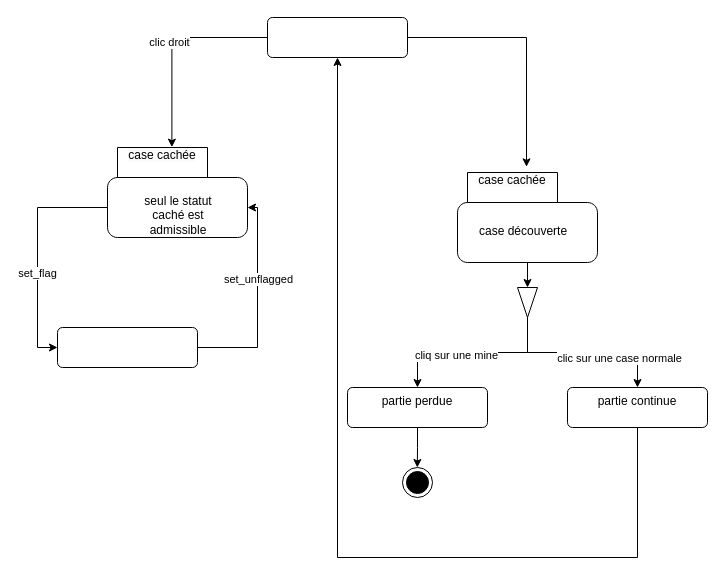
Image size: 725x583. Some labels were removed from this diagram. Each missing label, with the box of its shape:
Commencé: (266, 16, 408, 58)
marquée par un drapeau: (56, 326, 198, 368)
